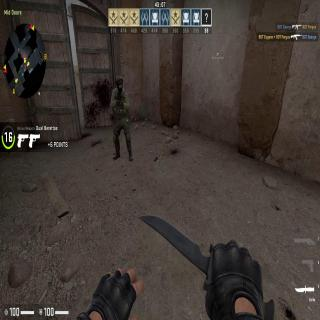CT-Body: (108, 74, 135, 162)
CT-Head: (115, 74, 124, 90)
